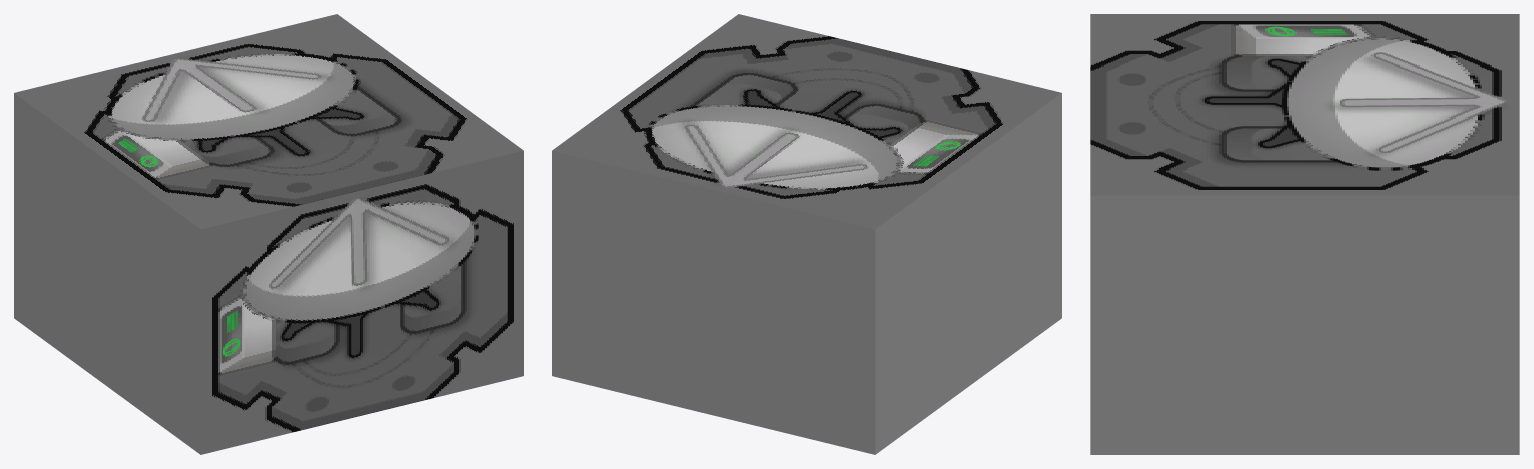
The model's file is Building_OrbitalScanner.glb.
The picture shows the model from 3 angles, left to right: view 1: azimuth 30°, elevation 25°; view 2: azimuth 150°, elevation 25°; view 3: azimuth 270°, elevation 25°; orthographic projection. The views are drawn at different scales.
Visible parts, largest first — view 1: OrbitalScanner; view 2: OrbitalScanner; view 3: OrbitalScanner.
Part boxes in pixels (bbox=[...]): OrbitalScanner: bbox=[14, 14, 523, 454]; OrbitalScanner: bbox=[552, 14, 1061, 454]; OrbitalScanner: bbox=[1090, 14, 1519, 454].
Size of the model in its own units: 1.8 by 1.2 by 1.8.
Materials: 1 (1 with a texture image).
